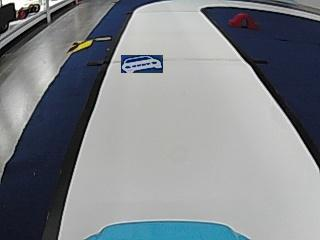bridge: (229, 13, 257, 28)
